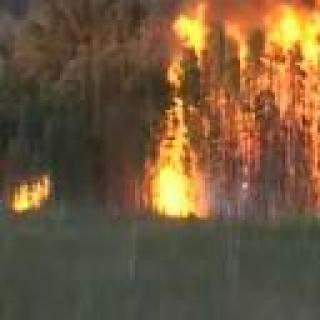fire: (148, 0, 320, 222), (8, 166, 50, 218)
